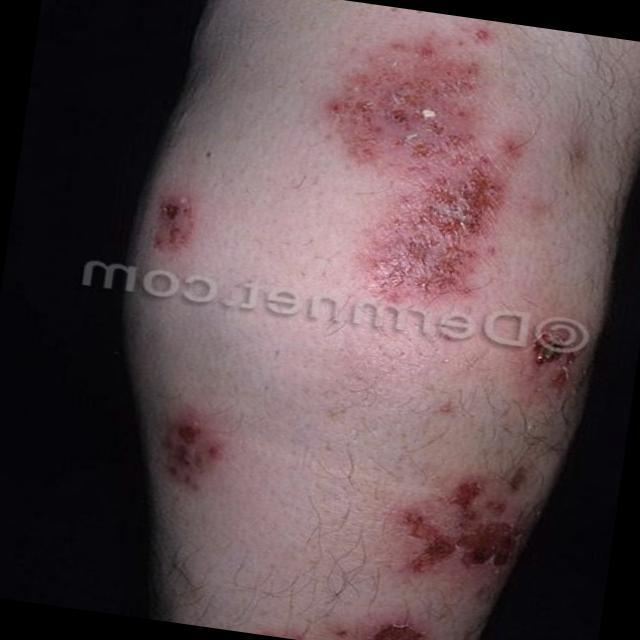Eczema: (325, 23, 538, 306), (378, 464, 542, 578), (517, 329, 580, 404), (161, 412, 216, 488), (145, 186, 200, 242), (358, 616, 436, 640)
